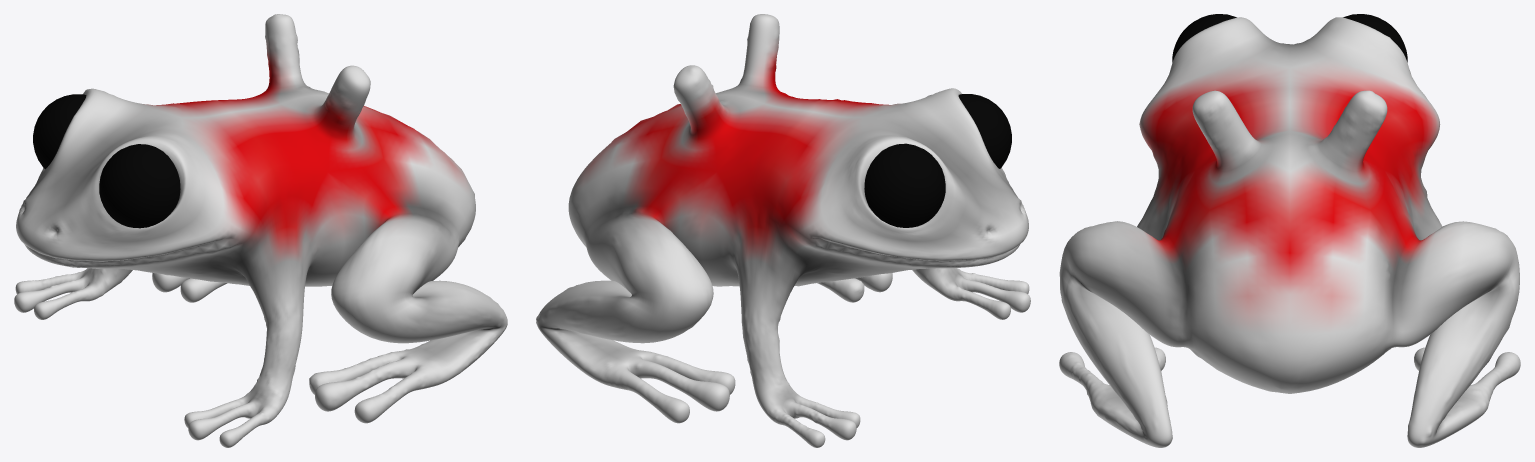
The model's file is Froggo.fbx.
3 renders of one model, left to right at view 1: azimuth 30°, elevation 25°; view 2: azimuth 150°, elevation 25°; view 3: azimuth 270°, elevation 25°, orthographic. The views are drawn at different scales.
Visible parts, largest first — view 1: Cube.082, Sphere.030; view 2: Cube.082, Sphere.030; view 3: Cube.082, Sphere.030.
Boxes of the visible parts, box(x1,y1,x2,y2) form: Cube.082: box(14, 14, 507, 447); Sphere.030: box(33, 94, 180, 228); Cube.082: box(536, 14, 1030, 447); Sphere.030: box(864, 94, 1011, 227); Cube.082: box(1059, 17, 1520, 447); Sphere.030: box(1172, 14, 1407, 62).
Bounding box in the file's own units: 215 × 137 × 184.
